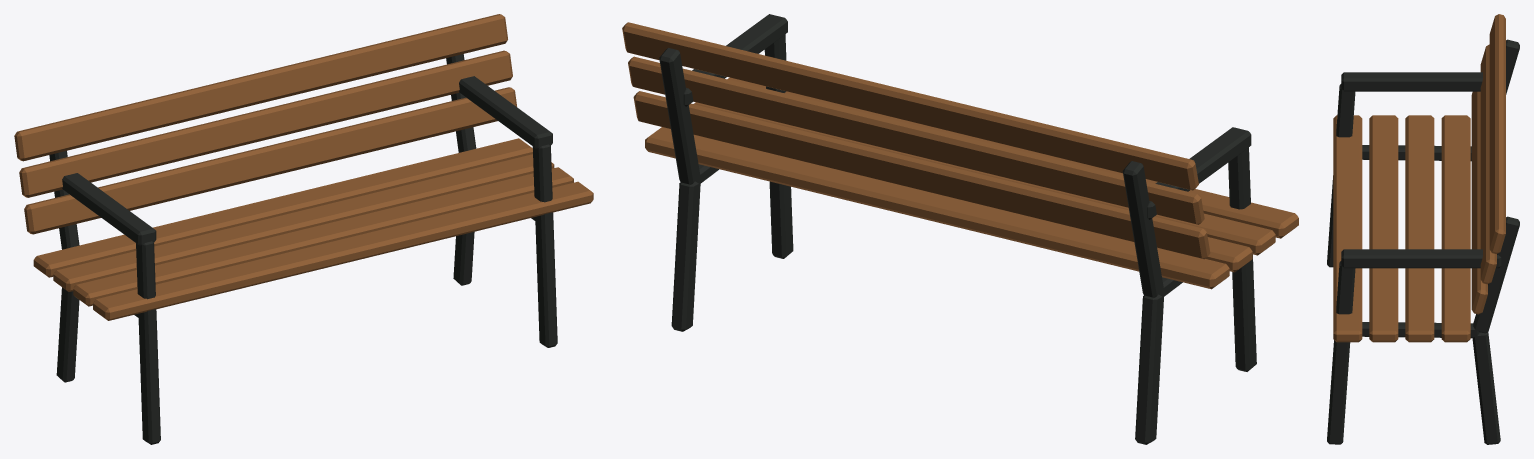
The model's file is banco.glb.
The picture shows the model from 3 angles, left to right: view 1: azimuth 30°, elevation 25°; view 2: azimuth 150°, elevation 25°; view 3: azimuth 270°, elevation 25°; orthographic projection. The views are drawn at different scales.
Visible parts, largest first — view 1: banco_cuerpo; view 2: banco_cuerpo; view 3: banco_cuerpo.
Part boxes in pixels (bbox=[...]): banco_cuerpo: bbox=[14, 14, 593, 444]; banco_cuerpo: bbox=[622, 14, 1298, 444]; banco_cuerpo: bbox=[1327, 14, 1519, 444].
Size of what is drawn, in the model's own units: 1.6 by 0.7992 by 0.5989.
